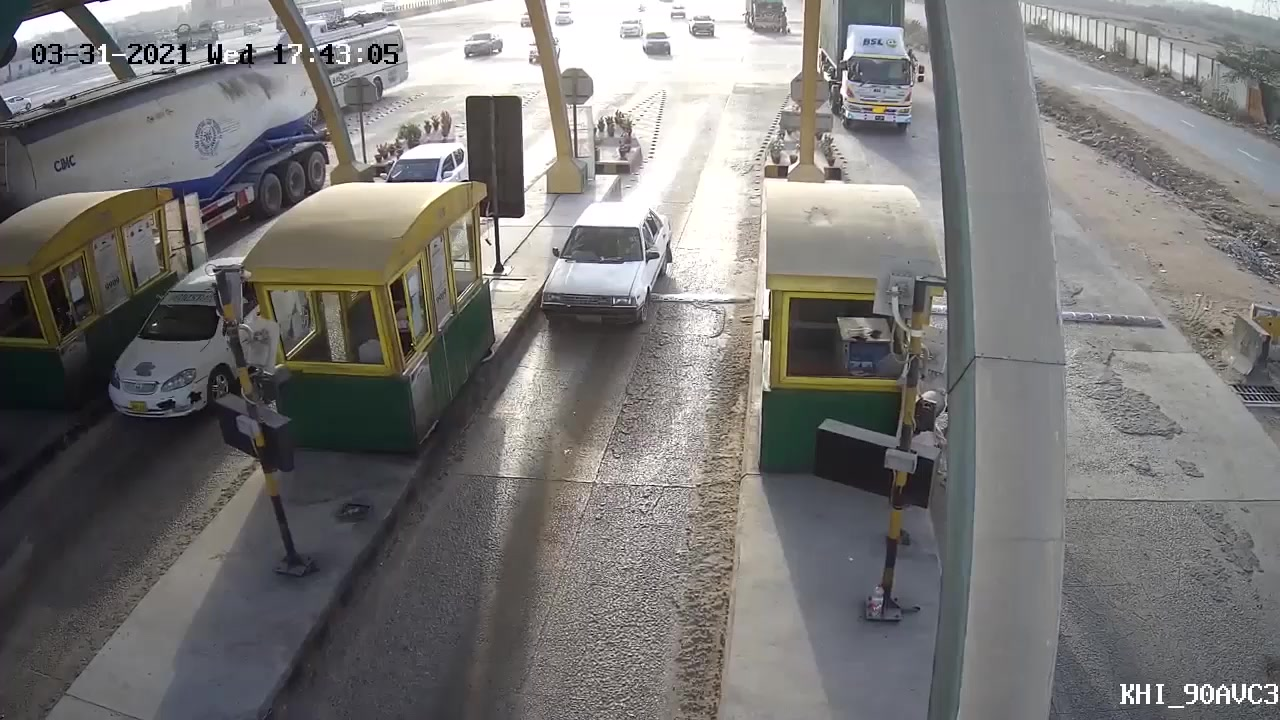F1: (529, 201, 674, 318)
